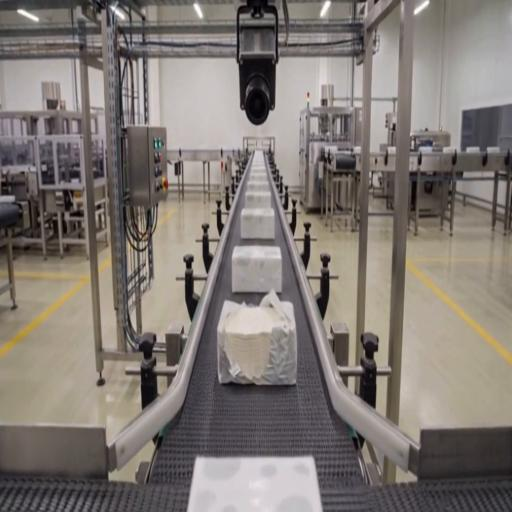defective: (188, 453, 321, 512), (217, 295, 297, 385)
good: (232, 245, 282, 295), (239, 206, 277, 242), (243, 190, 272, 210), (246, 170, 270, 188), (248, 157, 268, 172), (248, 150, 268, 164)
